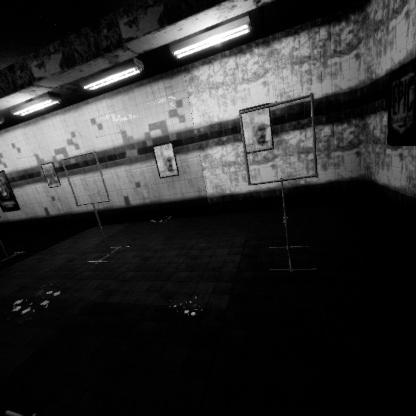gate: (239, 228, 325, 324), (61, 209, 114, 265)
